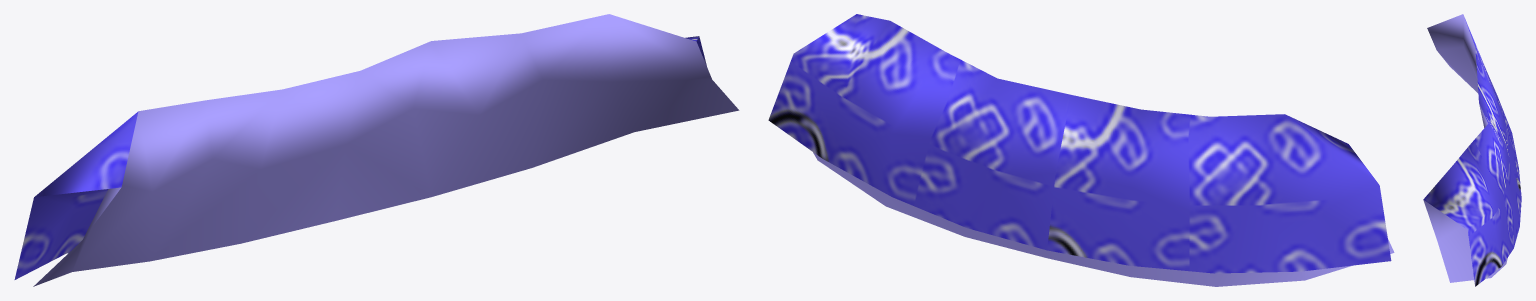
The model's file is Kerah.fbx.
3 renders of one model, left to right at view 1: azimuth 30°, elevation 25°; view 2: azimuth 150°, elevation 25°; view 3: azimuth 270°, elevation 25°, orthographic. The views are drawn at different scales.
Parts seen in each view (by area): view 1: Kerah; view 2: Kerah; view 3: Kerah.
Part boxes in pixels (x1=…): Kerah: x1=14, y1=14, x2=739, y2=286; Kerah: x1=768, y1=14, x2=1394, y2=286; Kerah: x1=1423, y1=14, x2=1521, y2=286.
Size of the model in its own units: 145 by 37.89 by 27.24.
2 materials, 1 textured.
